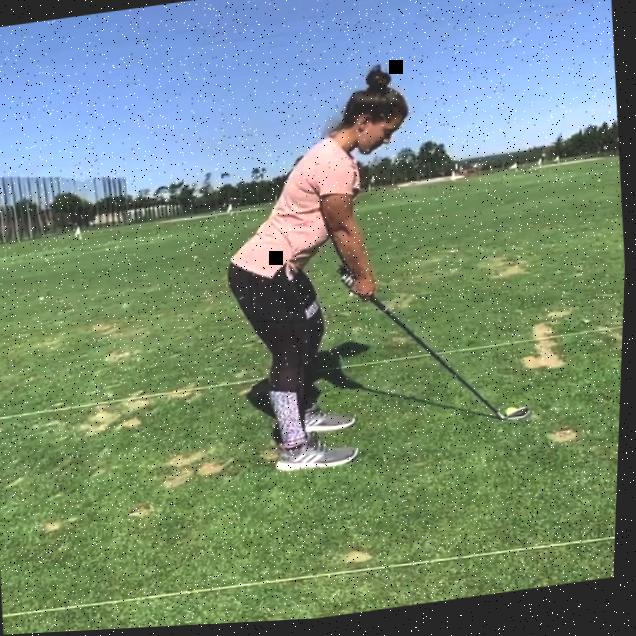ClubHead: (503, 414, 532, 429)
GolfBall: (508, 410, 521, 417)
